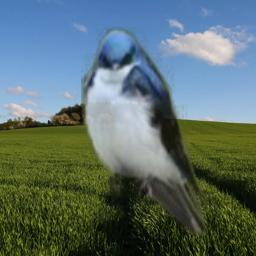Swallow: (81, 26, 211, 236)
